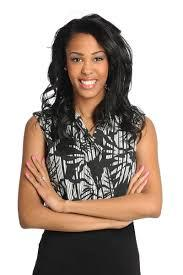person: (54, 10, 135, 126)
